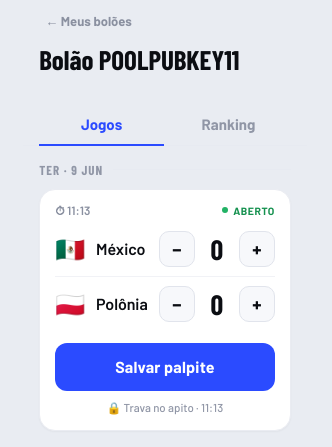
Test: PoolPage › ranking tab: empty state when no one has scored
Click the button "Ranking": click(228, 124) [166,104,291,146]
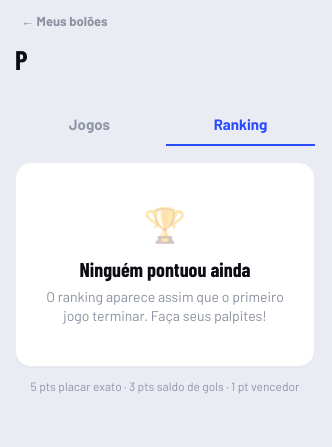
Check: the text "Ninguém pontuou ainda" is shown, box [80,256,250,280]
